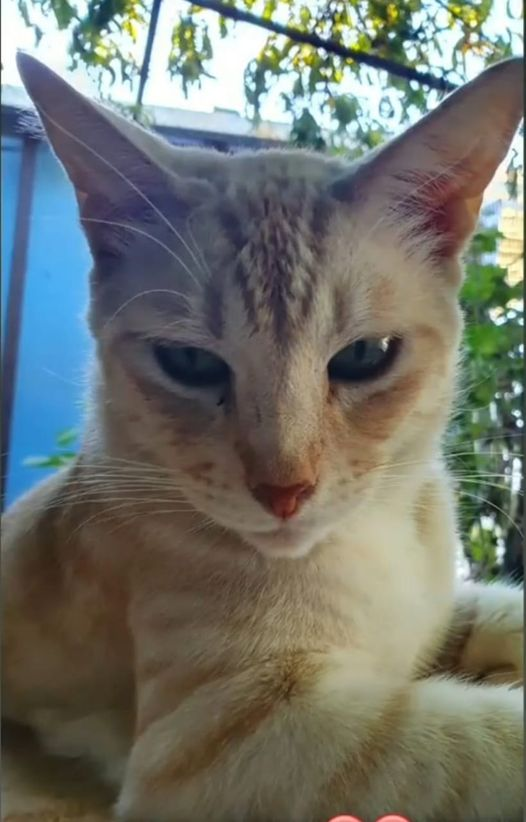cat: (9, 28, 523, 792)
